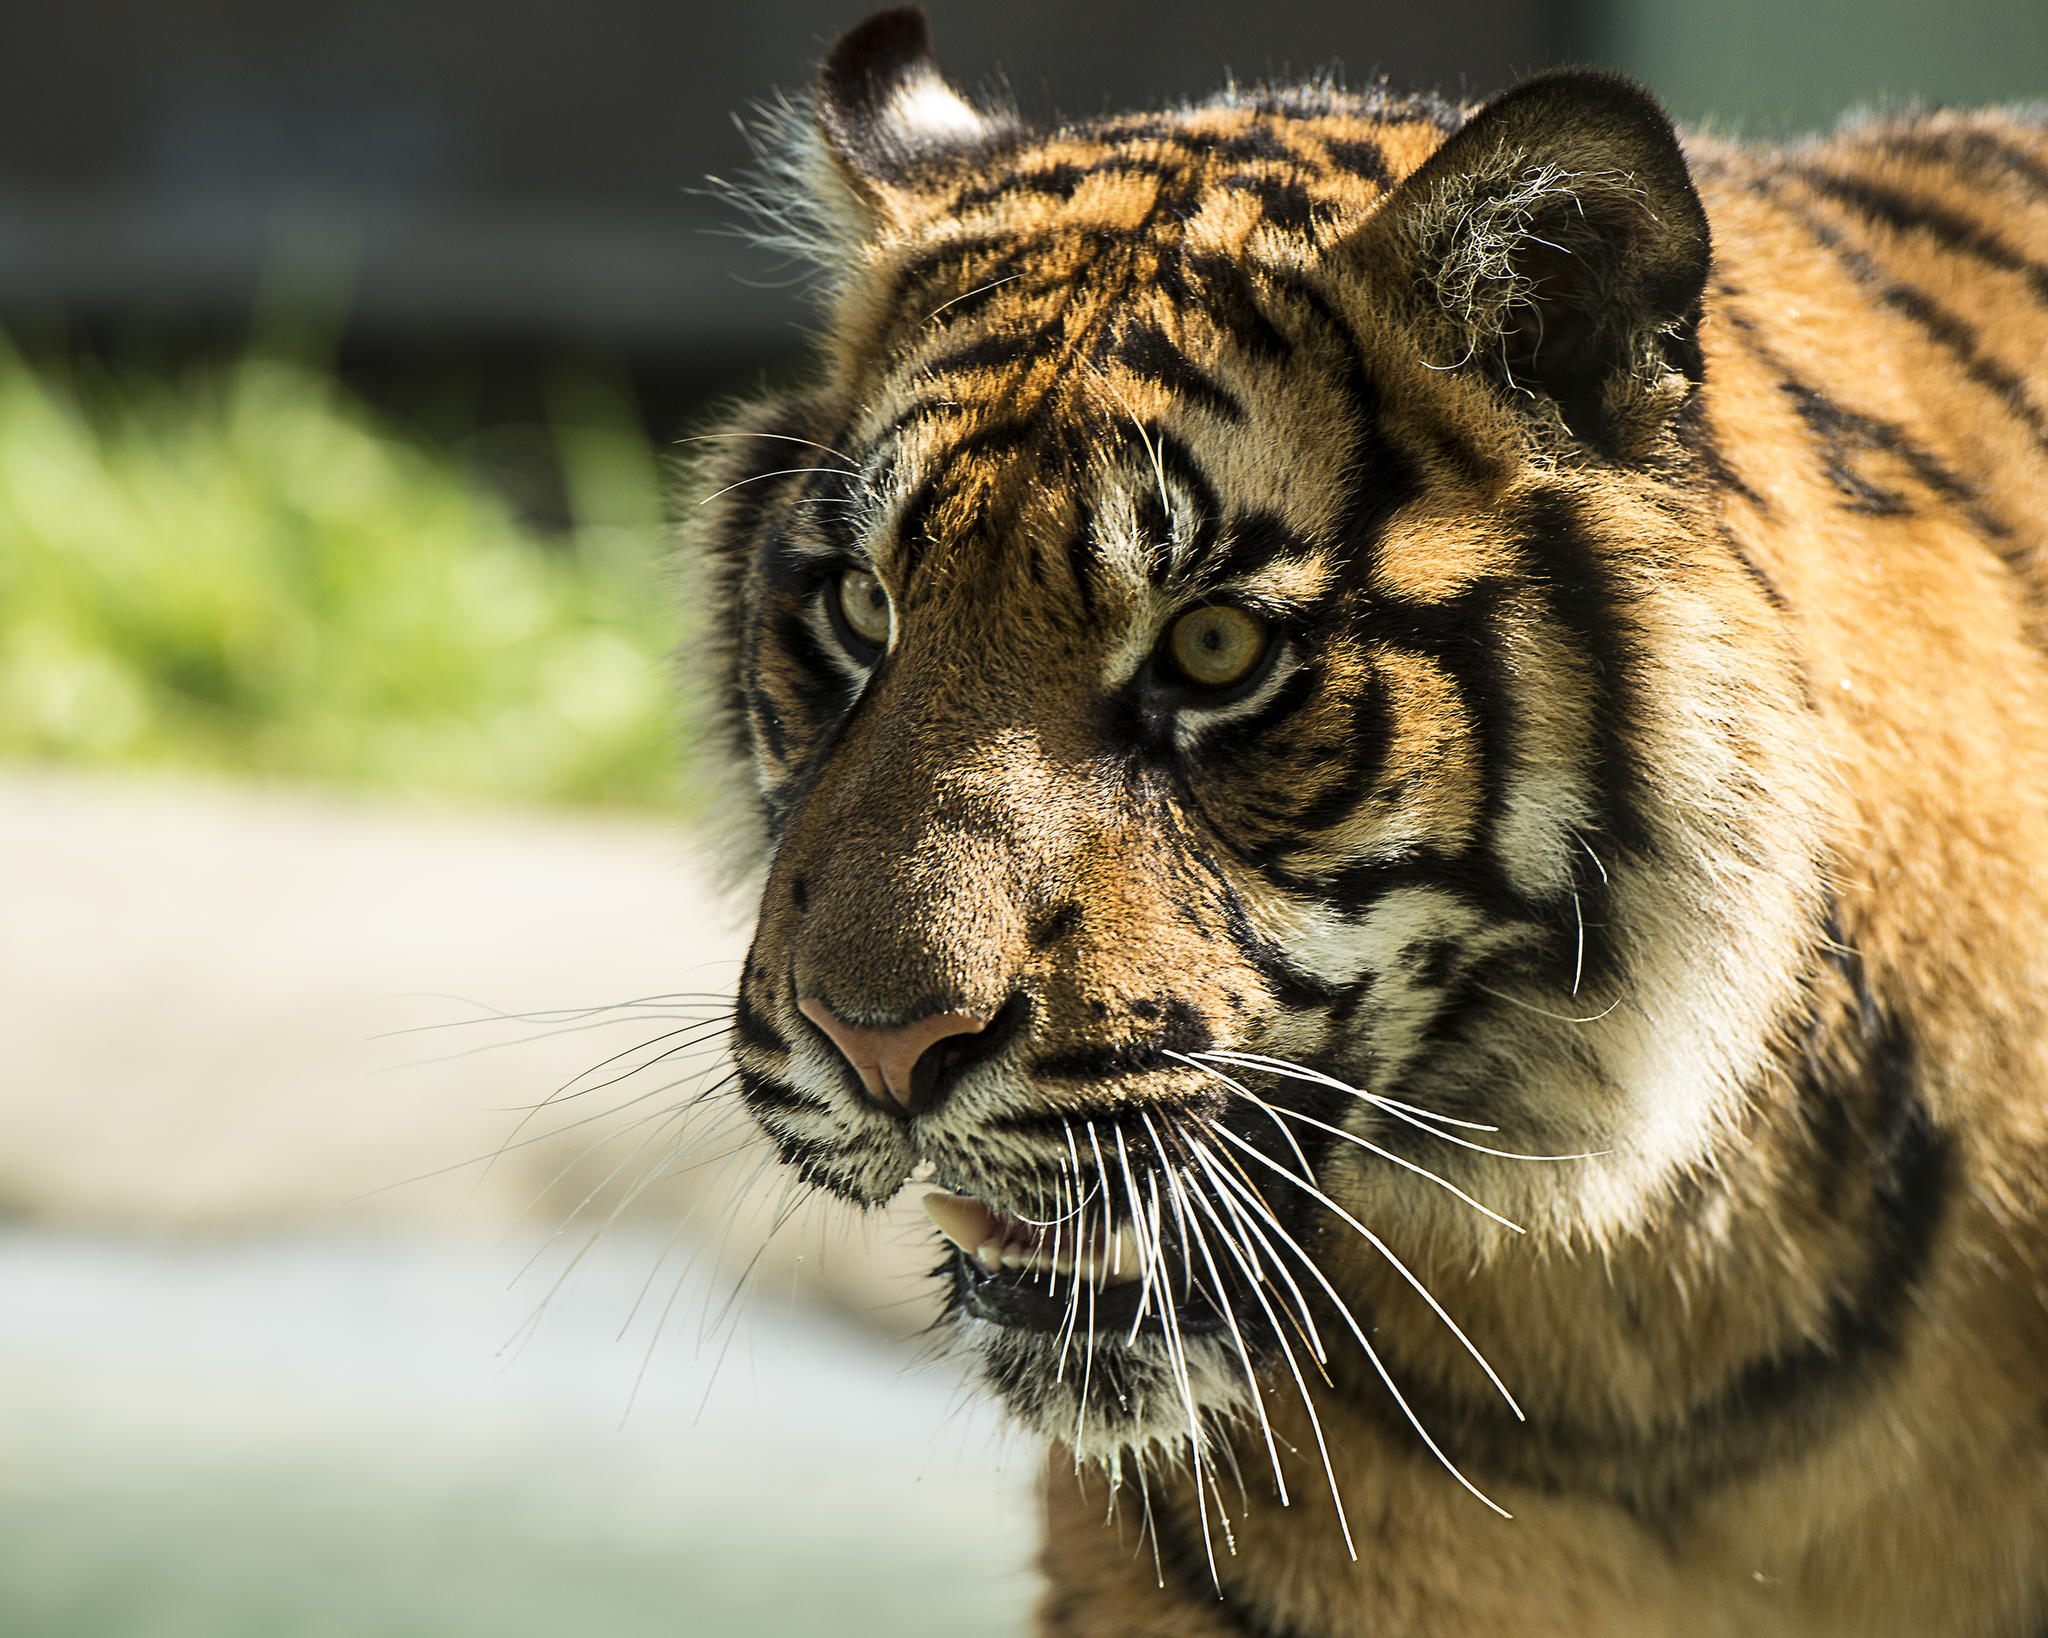tiger: (669, 67, 1968, 1528)
